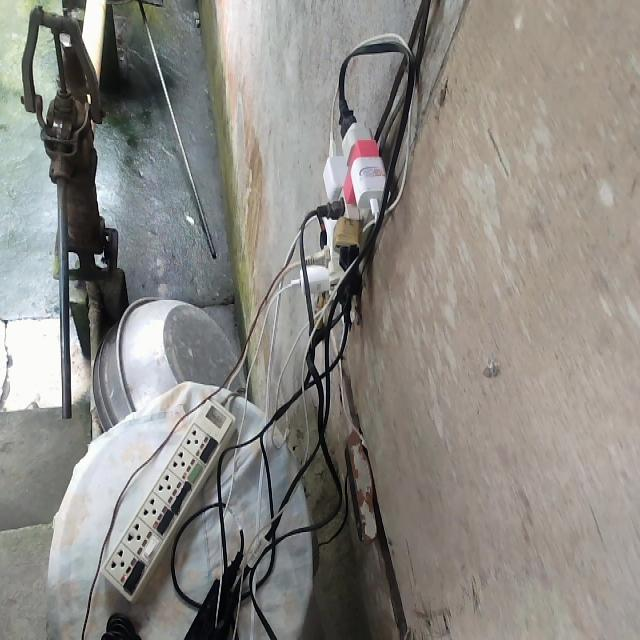-: (296, 111, 384, 308)
